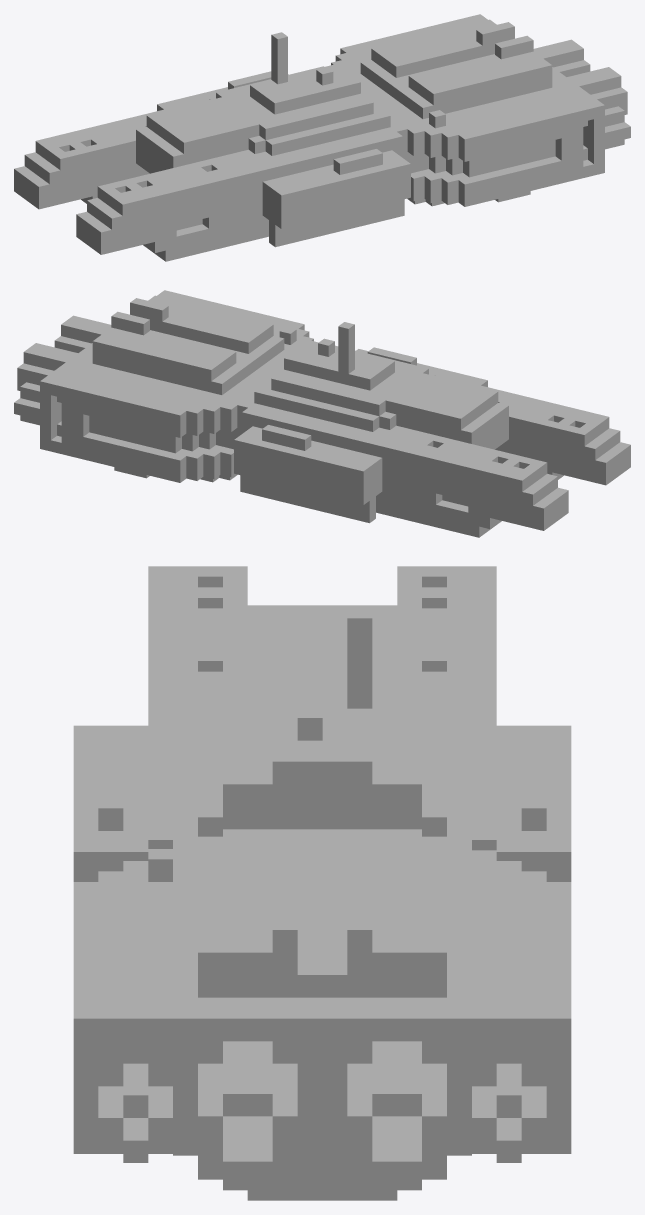
Rendered from spaceship_fixed_pivot.glb.
3 views of the same model, one above another, from view 1: azimuth 30°, elevation 25°; view 2: azimuth 150°, elevation 25°; view 3: azimuth 270°, elevation 25° (orthographic). The views are drawn at different scales.
Visible parts, largest first — view 1: spaceship_body_low; view 2: spaceship_body_low; view 3: spaceship_body_low.
Part boxes in pixels (x1=…): spaceship_body_low: x1=14, y1=14, x2=630, y2=261; spaceship_body_low: x1=14, y1=290, x2=630, y2=537; spaceship_body_low: x1=73, y1=566, x2=571, y2=1200.
Bounding box in the file's own units: 500 × 160 × 200.
Materials: 1 (1 with a texture image).
